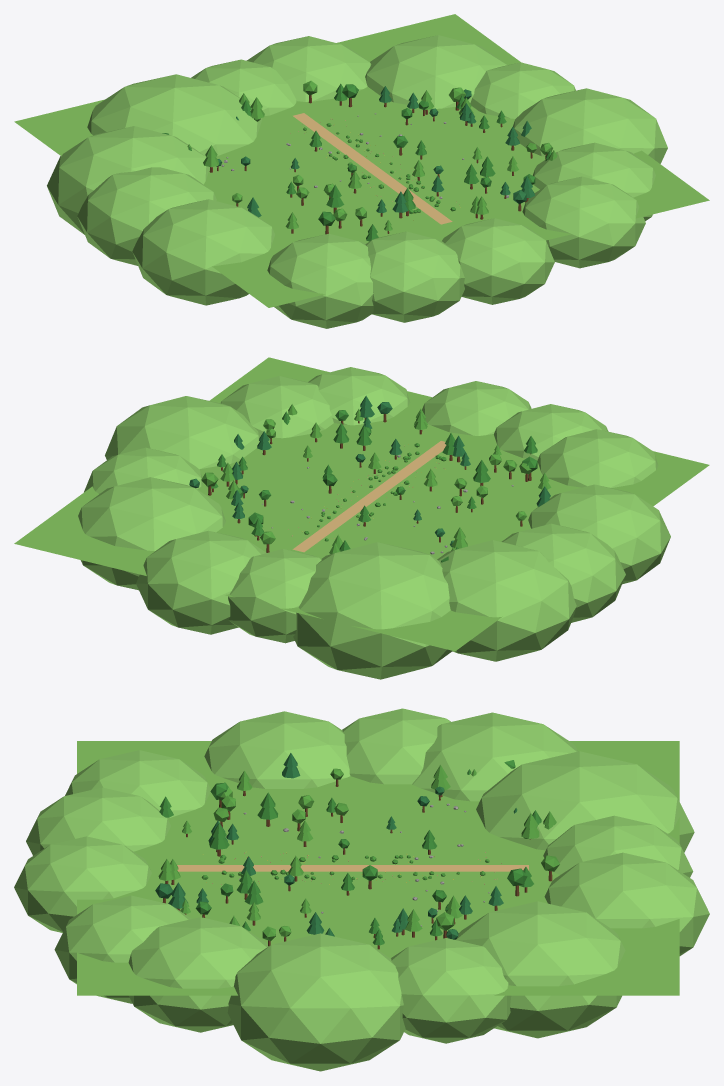
File: park.glb
3 views of the same model, one above another, from view 1: azimuth 30°, elevation 25°; view 2: azimuth 150°, elevation 25°; view 3: azimuth 270°, elevation 25° (orthographic). The views are drawn at different scales.
Visible parts, largest first — view 1: hill, grass, leaves_b, leaves_a, leaves_c, dirt, trunk, bush; view 2: hill, grass, leaves_b, leaves_a, leaves_c, dirt, trunk, bush; view 3: hill, grass, leaves_b, leaves_a, leaves_c, dirt, trunk, bush.
Part boxes in pixels (<box>): hill: <box>47,35,667,328</box>; grass: <box>14,14,709,307</box>; leaves_b: <box>187,80,557,230</box>; leaves_a: <box>162,83,551,241</box>; leaves_c: <box>216,86,535,217</box>; dirt: <box>293,113,452,224</box>; trunk: <box>209,95,546,234</box>; bush: <box>303,123,455,213</box>; hill: <box>78,367,670,679</box>; grass: <box>14,357,709,651</box>; leaves_b: <box>201,404,551,554</box>; leaves_a: <box>207,410,537,562</box>; leaves_c: <box>189,395,550,547</box>; dirt: <box>292,441,446,552</box>; trunk: <box>208,414,531,552</box>; bush: <box>304,443,446,541</box>; hill: <box>14,708,709,1071</box>; grass: <box>77,741,679,995</box>; leaves_b: <box>158,765,559,941</box>; leaves_a: <box>159,760,541,945</box>; leaves_c: <box>155,753,517,939</box>; dirt: <box>177,865,528,871</box>; trunk: <box>162,779,552,949</box>; bush: <box>201,854,489,880</box>.
Size of the model in its own units: 146 by 28.65 by 139.
